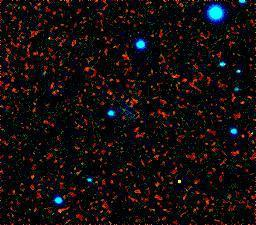star: (166, 168, 196, 198)
